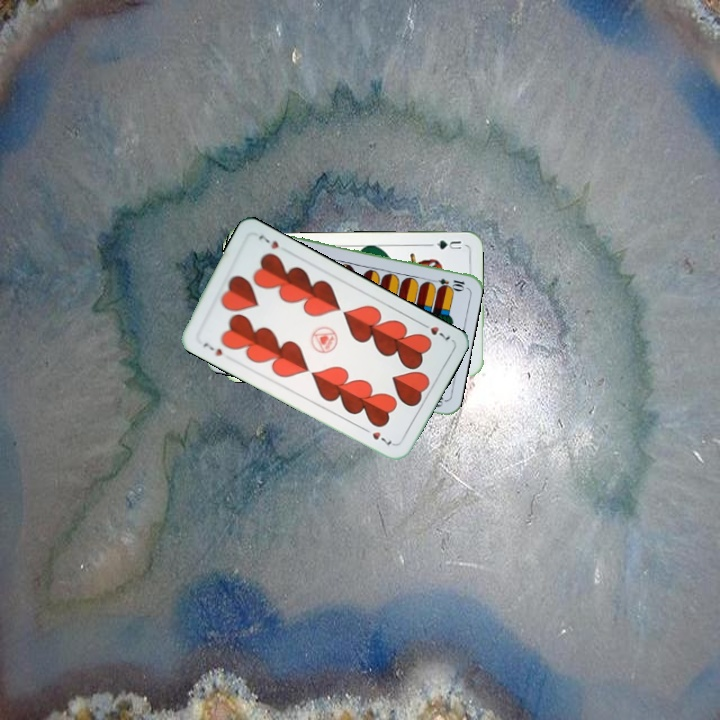E10: (426, 274, 467, 292)
GU: (432, 236, 464, 252)
H7: (416, 318, 454, 345), (199, 339, 225, 359)
